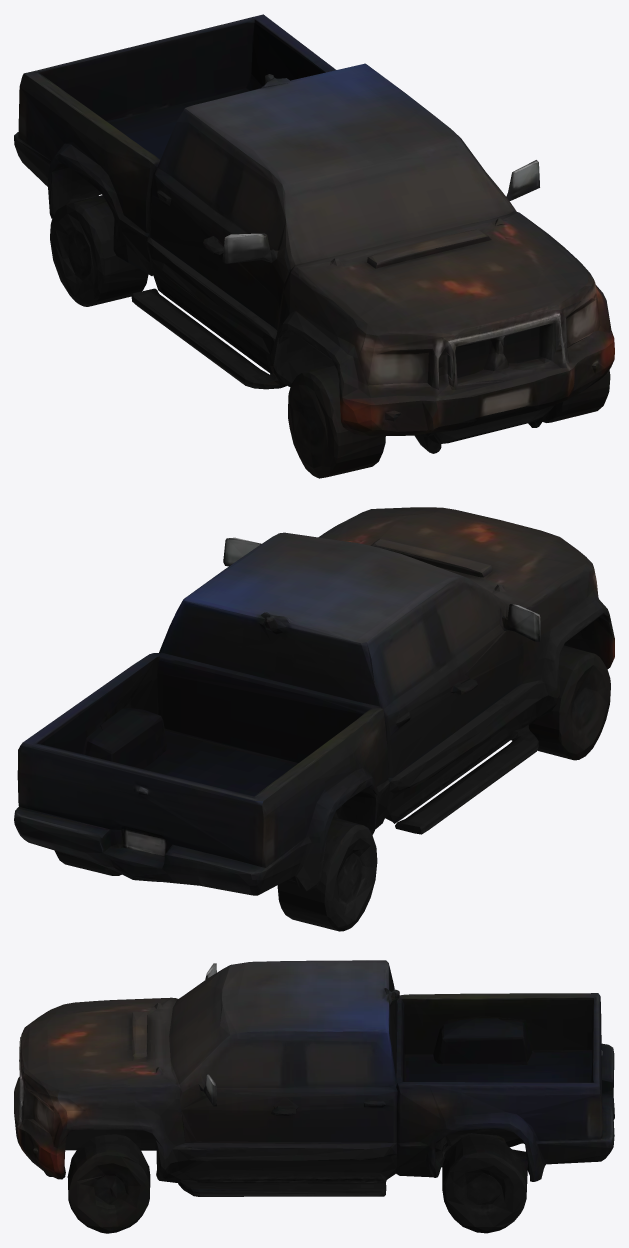
Rendered from truck_pickup_black.glb.
The picture shows the model from 3 angles, top to bottom: view 1: azimuth 30°, elevation 25°; view 2: azimuth 150°, elevation 25°; view 3: azimuth 270°, elevation 25°; orthographic projection. The views are drawn at different scales.
Parts seen in each view (by area): view 1: geometry_0; view 2: geometry_0; view 3: geometry_0.
Part boxes in pixels (x1,y1,x2,y2): geometry_0: (14, 14, 614, 478); geometry_0: (14, 507, 614, 931); geometry_0: (14, 960, 614, 1233).
Bounding box in the file's own units: 0.4865 × 0.3487 × 0.9971.
Materials: 1 (1 with a texture image).
